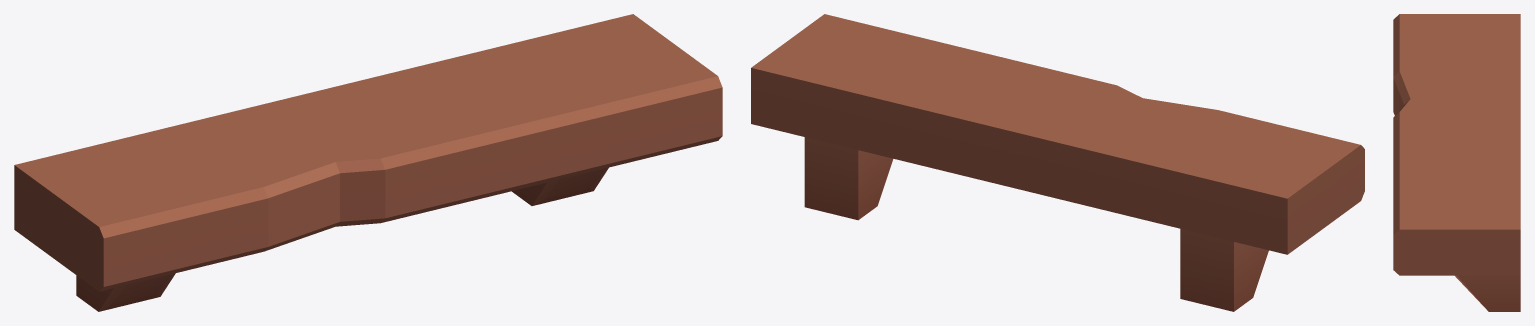
The model's file is shelf_large.obj.
The picture shows the model from 3 angles, left to right: view 1: azimuth 30°, elevation 25°; view 2: azimuth 150°, elevation 25°; view 3: azimuth 270°, elevation 25°; orthographic projection. The views are drawn at different scales.
Parts seen in each view (by area): view 1: shelf_large; view 2: shelf_large; view 3: shelf_large.
Part boxes in pixels (bbox=[...]): shelf_large: bbox=[14, 14, 722, 311]; shelf_large: bbox=[751, 14, 1364, 311]; shelf_large: bbox=[1393, 14, 1520, 311].
Bounding box in the file's own units: 2 × 0.45 × 0.5.
1 material, 1 textured.
